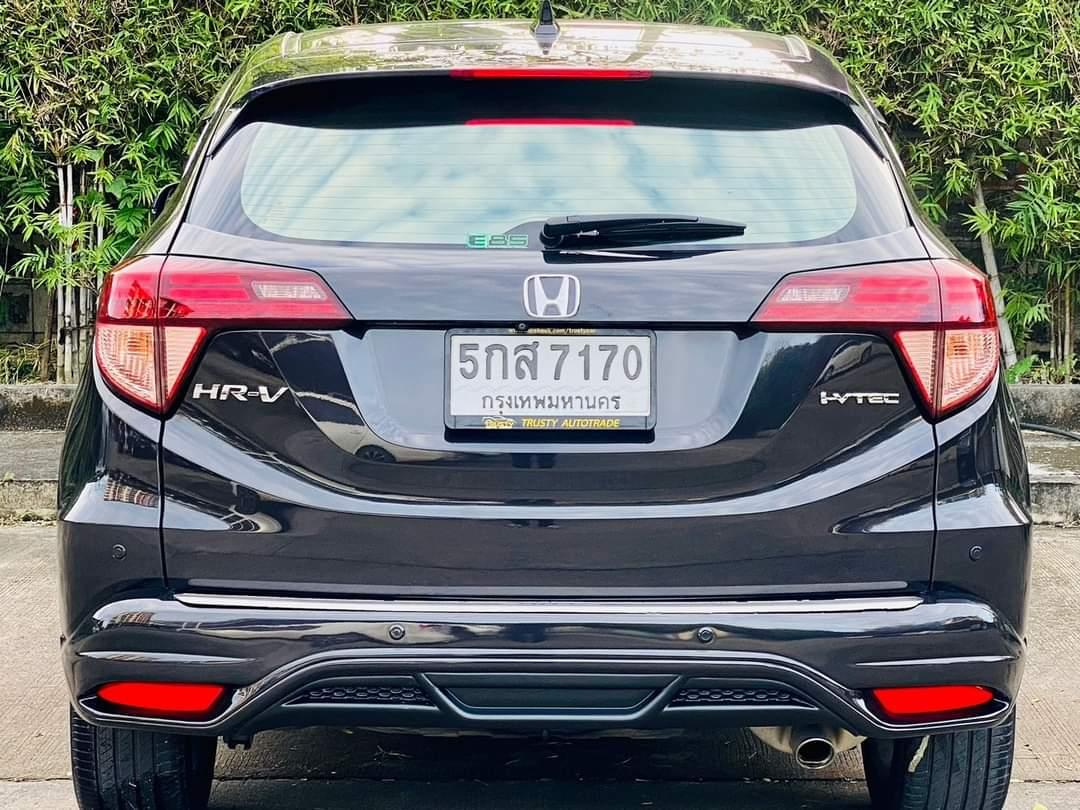license-plate: (444, 324, 658, 430)
